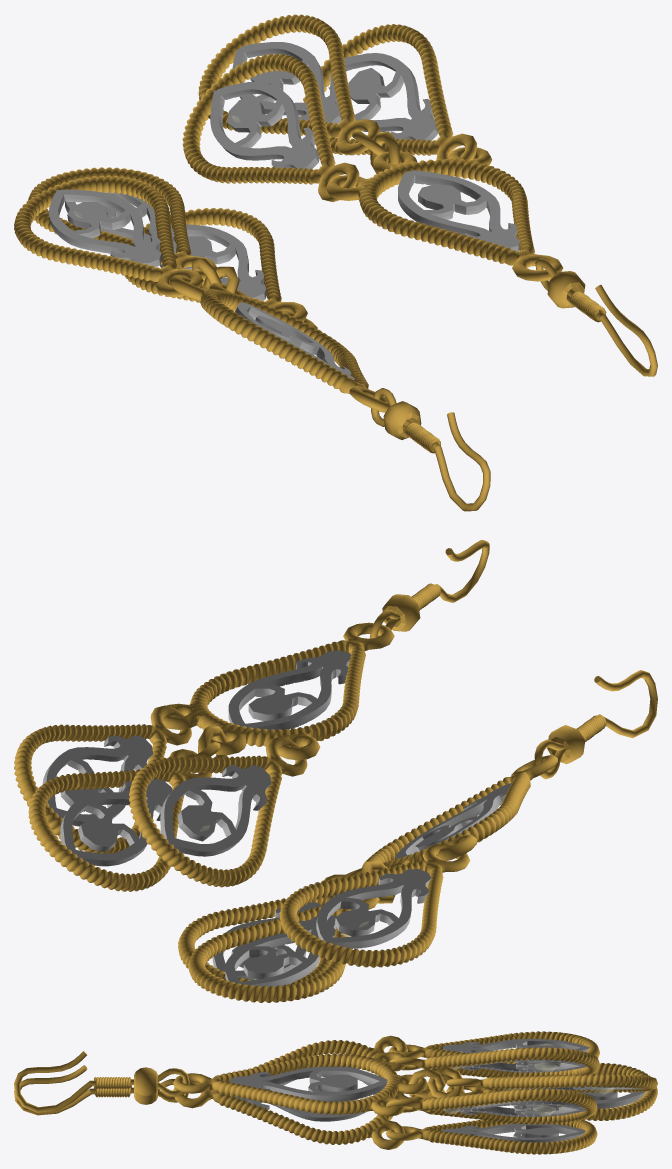
The model's file is 11763_earings_v1_L1.obj.
3 renders of one model, top to bottom at view 1: azimuth 30°, elevation 25°; view 2: azimuth 150°, elevation 25°; view 3: azimuth 270°, elevation 25°, orthographic. The views are drawn at different scales.
Parts seen in each view (by area): view 1: 11763_Earings_gold4, 11763_Earings_gold1, 11763_Earings_gold007, 11763_Earings_gold010, 11763_Earings_gold2, 11763_Earings_silver3, 11763_Earings_silver1, 11763_Earings_silver006, 11763_Earings_gold3, 11763_Earings_silver2, 11763_Earings_gold006, 11763_Earings_gold008 (+8 smaller); view 2: 11763_Earings_gold4, 11763_Earings_gold1, 11763_Earings_gold007, 11763_Earings_silver3, 11763_Earings_gold2, 11763_Earings_silver1, 11763_Earings_silver006, 11763_Earings_gold3, 11763_Earings_gold006, 11763_Earings_gold010, 11763_Earings_silver4, 11763_Earings_silver005 (+7 smaller); view 3: 11763_Earings_gold4, 11763_Earings_gold010, 11763_Earings_gold3, 11763_Earings_gold1, 11763_Earings_silver1, 11763_Earings_gold008, 11763_Earings_gold2, 11763_Earings_1, 11763_Earings_silver007, 11763_Earings_gold007, 11763_Earings_gold006, 11763_Earings_silver2 (+9 smaller).
Boxes of the visible parts, x1,y1,x2,y2 form: 11763_Earings_gold4: (326, 147, 563, 281); 11763_Earings_gold1: (182, 53, 359, 201); 11763_Earings_gold007: (14, 175, 203, 296); 11763_Earings_gold010: (169, 275, 389, 412); 11763_Earings_gold2: (198, 14, 380, 155); 11763_Earings_silver3: (210, 81, 319, 169); 11763_Earings_silver1: (398, 170, 519, 251); 11763_Earings_silver006: (49, 189, 162, 267); 11763_Earings_gold3: (301, 24, 476, 160); 11763_Earings_silver2: (330, 53, 438, 140); 11763_Earings_gold006: (28, 167, 216, 279); 11763_Earings_gold008: (125, 208, 307, 321); 11763_Earings_gold4: (162, 622, 394, 760); 11763_Earings_gold1: (129, 737, 307, 887); 11763_Earings_gold007: (279, 844, 470, 967); 11763_Earings_silver3: (160, 764, 271, 856); 11763_Earings_gold2: (28, 749, 211, 891); 11763_Earings_silver1: (228, 650, 350, 730); 11763_Earings_silver006: (316, 869, 431, 948); 11763_Earings_gold3: (14, 705, 191, 853); 11763_Earings_gold006: (188, 895, 379, 1002); 11763_Earings_gold010: (346, 755, 557, 876); 11763_Earings_silver4: (60, 778, 172, 866); 11763_Earings_silver005: (225, 915, 336, 987); 11763_Earings_gold4: (173, 1052, 427, 1116); 11763_Earings_gold010: (173, 1035, 427, 1149); 11763_Earings_gold3: (386, 1088, 597, 1124); 11763_Earings_gold1: (389, 1047, 599, 1077); 11763_Earings_silver1: (230, 1067, 387, 1101); 11763_Earings_gold008: (386, 1119, 597, 1154); 11763_Earings_gold2: (446, 1074, 657, 1092); 11763_Earings_1: (14, 1051, 189, 1112); 11763_Earings_silver007: (441, 1123, 585, 1142); 11763_Earings_gold007: (388, 1031, 599, 1064); 11763_Earings_gold006: (446, 1063, 657, 1120); 11763_Earings_silver2: (442, 1100, 585, 1116).
Bounding box in the file's own units: 4.12 × 1.84 × 7.61.
